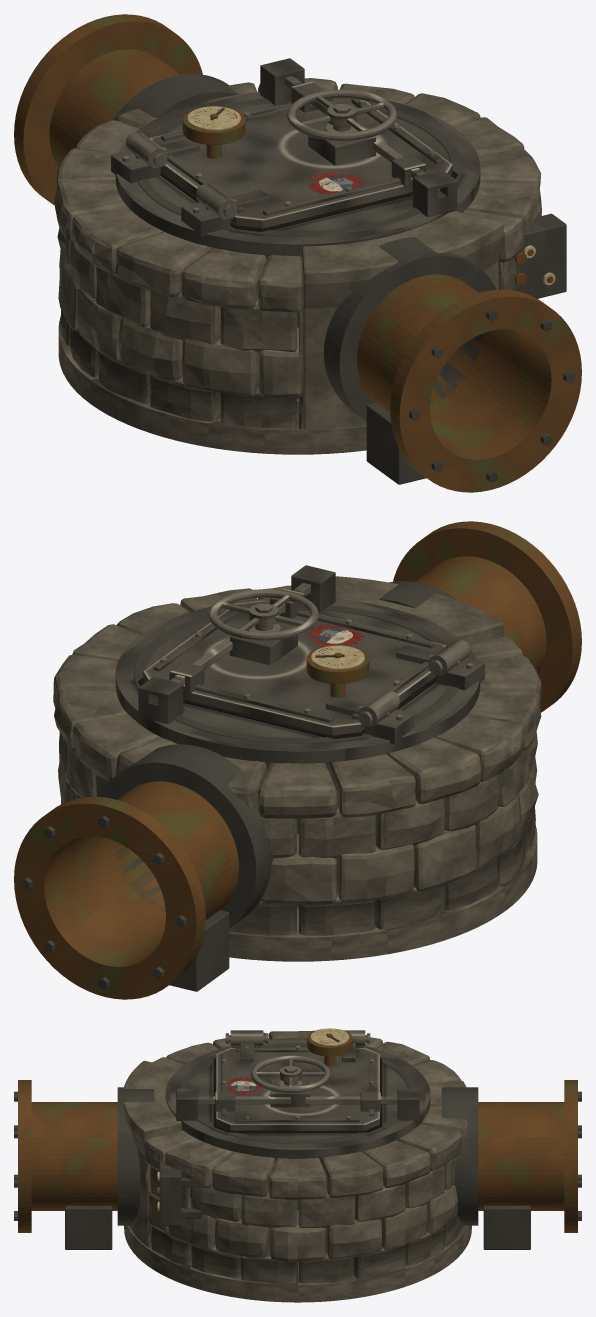
Rendered from pressurized-fluid-vault-v01.glb.
3 renders of one model, top to bottom at view 1: azimuth 30°, elevation 25°; view 2: azimuth 150°, elevation 25°; view 3: azimuth 270°, elevation 25°, orthographic. The views are drawn at different scales.
Parts seen in each view (by area): view 1: Fluid | south full-size mouth collar, Fluid | south continuous open throat, Vault | rectangular reinforced door leaf, Vault | continuous metal infill panel, Grounded carved circuit receiving tablet, Fluid | north full-size mouth collar, Fluid | south load-bearing wall sleeve, Continuous grounded rubble footing, Fluid | north continuous open throat, Hand-laid course 3 stone 10.0, Hand-laid course 3 stone 09.0, Hand-laid course 1 stone 10.0 (+41 smaller); view 2: Fluid | north full-size mouth collar, Fluid | north continuous open throat, Vault | continuous metal infill panel, Vault | rectangular reinforced door leaf, Fluid | south full-size mouth collar, Fluid | north load-bearing wall sleeve, Continuous grounded rubble footing, Fluid | south continuous open throat, Hand-laid course 3 stone 06.0, Hand-laid course 3 stone 05.0, Grounded carved circuit receiving tablet, Hand-laid course 3 stone 07.0 (+47 smaller); view 3: Fluid | north continuous open throat, Fluid | south continuous open throat, Vault | continuous metal infill panel, Vault | rectangular reinforced door leaf, Continuous grounded rubble footing, Grounded carved circuit receiving tablet, Fluid | north load-bearing wall sleeve, Fluid | south load-bearing wall sleeve, Hand-laid course 3 stone 00.0, Hand-laid course 3 stone 17.0, Hand-laid course 3 stone 16.0, Fluid | north grounded pipe saddle (+48 smaller).
Boxes of the visible parts, box(x1,y1,x2,y2) form: Fluid | south full-size mouth collar: box(390, 289, 581, 492); Fluid | south continuous open throat: box(357, 274, 546, 456); Vault | rectangular reinforced door leaf: box(150, 98, 452, 228); Vault | continuous metal infill panel: box(115, 92, 480, 256); Grounded carved circuit receiving tablet: box(302, 211, 503, 429); Fluid | north full-size mouth collar: box(14, 14, 202, 205); Fluid | south load-bearing wall sleeve: box(324, 237, 496, 421); Continuous grounded rubble footing: box(58, 317, 366, 454); Fluid | north continuous open throat: box(49, 49, 180, 167); Hand-laid course 3 stone 10.0: box(181, 247, 266, 309); Hand-laid course 3 stone 09.0: box(115, 231, 212, 297); Hand-laid course 1 stone 10.0: box(182, 338, 259, 396); Fluid | north full-size mouth collar: box(14, 796, 205, 999); Fluid | north continuous open throat: box(49, 781, 238, 963); Vault | continuous metal infill panel: box(115, 598, 480, 763); Vault | rectangular reinforced door leaf: box(143, 600, 445, 735); Fluid | south full-size mouth collar: box(393, 521, 581, 712); Fluid | north load-bearing wall sleeve: box(99, 744, 273, 928); Continuous grounded rubble footing: box(229, 825, 537, 961); Fluid | south continuous open throat: box(415, 556, 546, 673); Hand-laid course 3 stone 06.0: box(328, 754, 415, 817); Hand-laid course 3 stone 05.0: box(258, 762, 337, 818); Grounded carved circuit receiving tablet: box(335, 576, 503, 644); Hand-laid course 3 stone 07.0: box(386, 737, 481, 804); Fluid | north continuous open throat: box(430, 1102, 564, 1210); Fluid | south continuous open throat: box(31, 1102, 117, 1210); Vault | continuous metal infill panel: box(165, 1038, 430, 1158); Vault | rectangular reinforced door leaf: box(216, 1048, 379, 1130); Continuous grounded rubble footing: box(124, 1225, 471, 1302); Grounded carved circuit receiving tablet: box(123, 1060, 182, 1245); Fluid | north load-bearing wall sleeve: box(441, 1087, 478, 1225); Fluid | south load-bearing wall sleeve: box(117, 1087, 154, 1225); Hand-laid course 3 stone 00.0: box(320, 1151, 383, 1197); Hand-laid course 3 stone 17.0: box(269, 1158, 326, 1199); Hand-laid course 3 stone 16.0: box(212, 1152, 275, 1197); Fluid | north grounded pipe saddle: box(483, 1205, 530, 1249).
Size of the model in its own units: 1.96 by 1.06 by 3.12.
18 materials, 17 textured.
